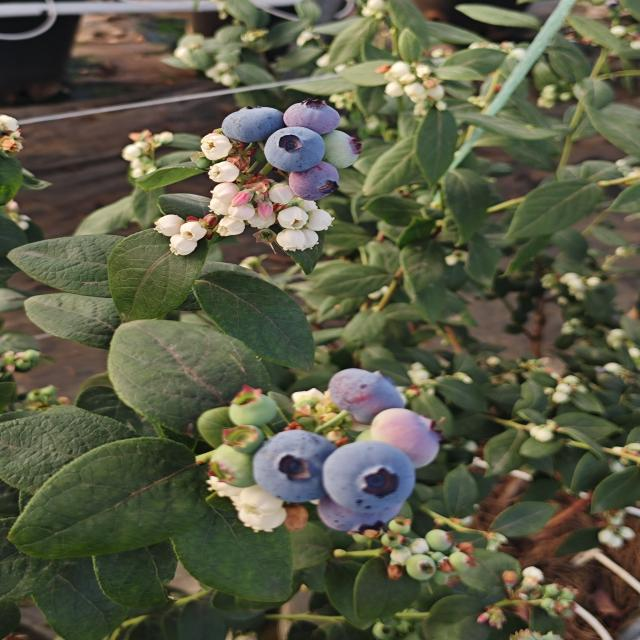ripe: (323, 441, 420, 513), (251, 428, 338, 505), (329, 364, 401, 424), (314, 497, 404, 543), (264, 126, 330, 174), (218, 99, 285, 144), (283, 96, 344, 131), (288, 162, 344, 200)
